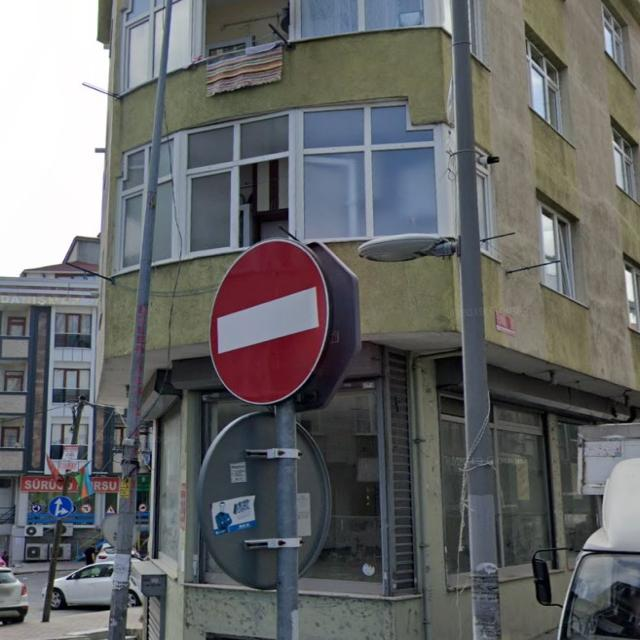girisyok: (208, 238, 330, 404)
ilerisag: (49, 495, 72, 518)
soladonulmez: (81, 504, 91, 514)
